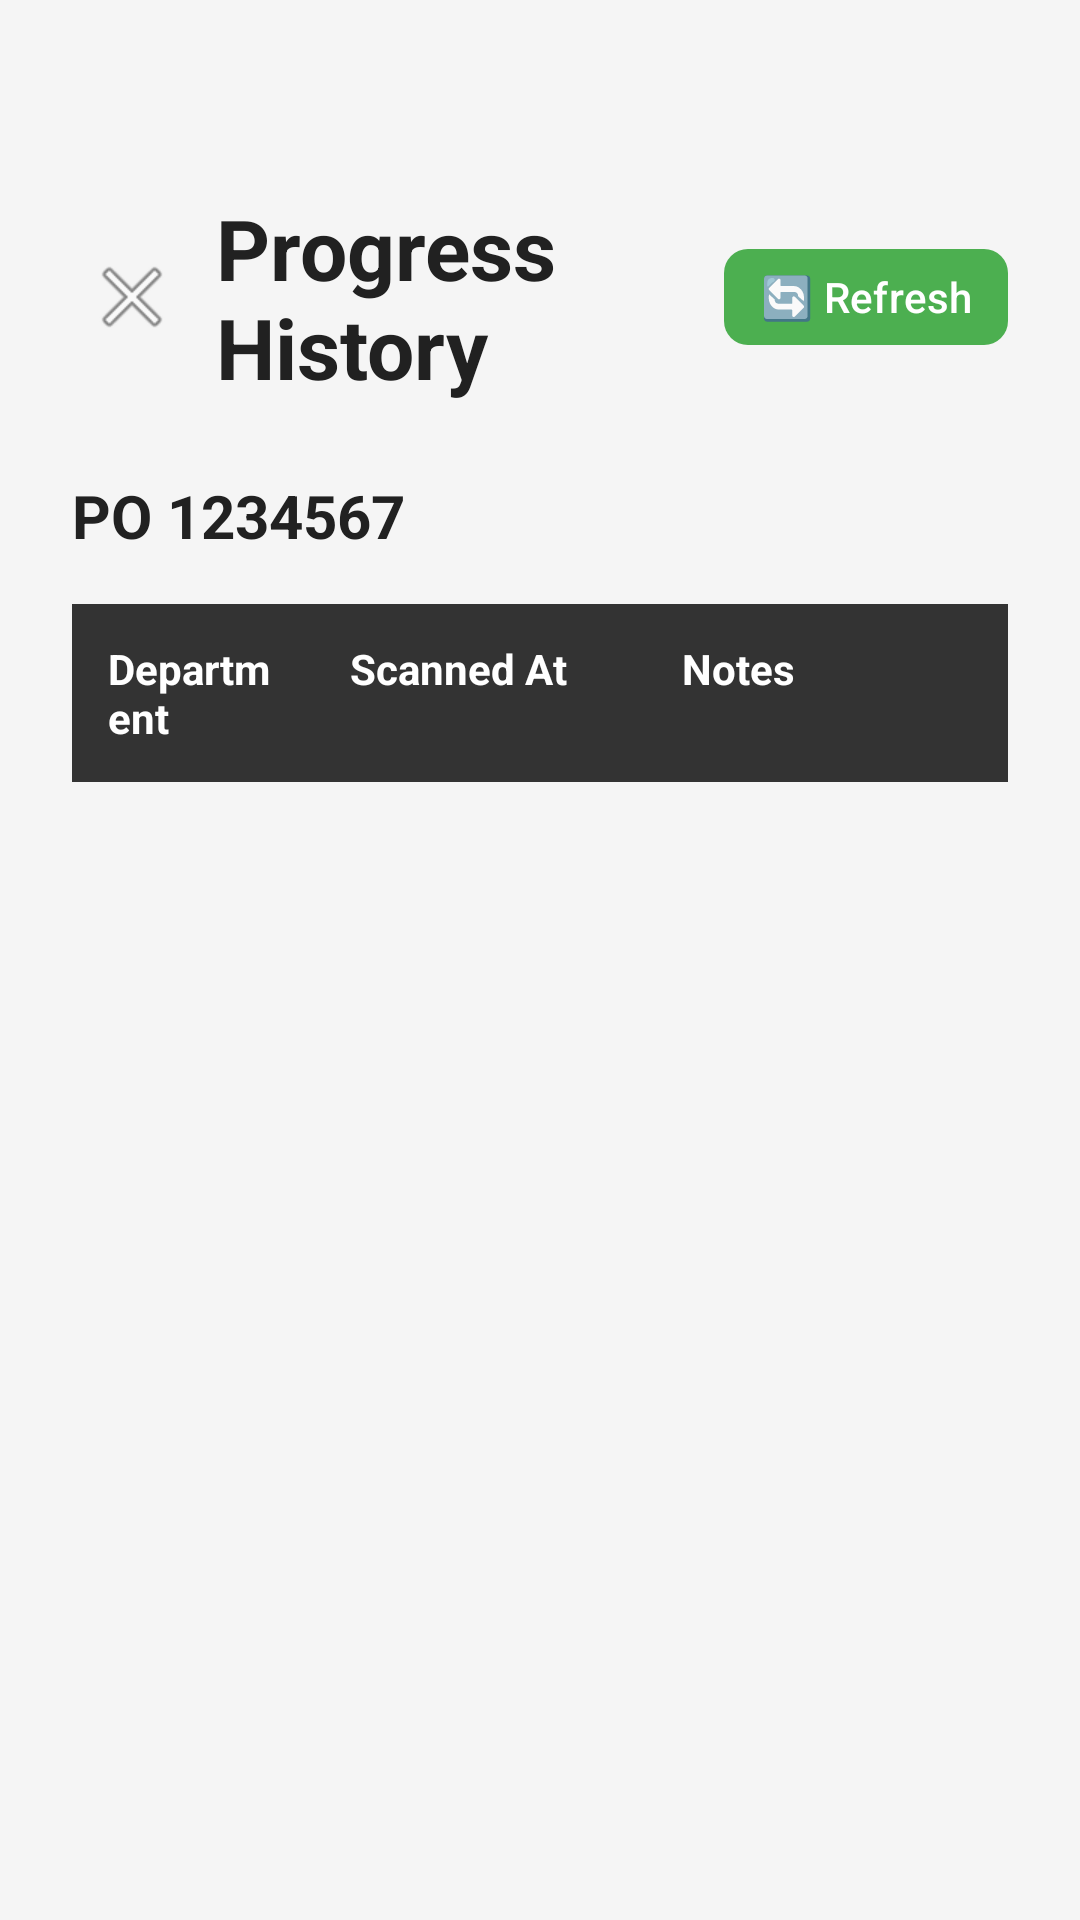

Icon click points for this 1080*1920 phone screenshot, format (x,y):
Back: (132,297)
